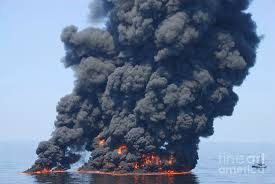smoke: (75, 29, 213, 132)
